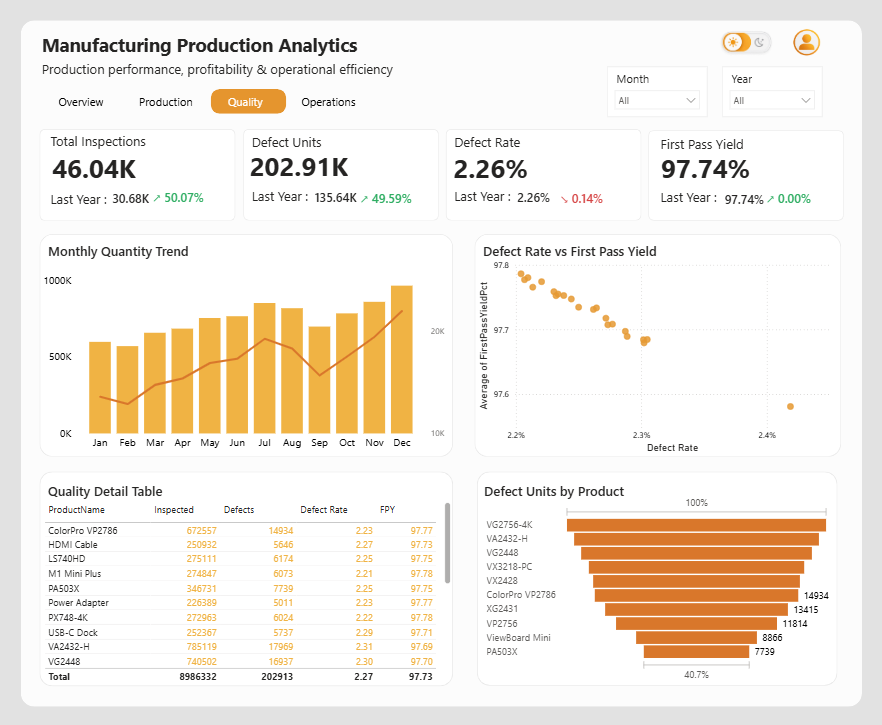

What the dashboard file says about the page in this screenshot:
{"tool":"powerbi","page":{"name":"Quality Analysis-Light","canvas":[1280,1050],"ordinal":2},"visuals":[{"type":"shape","box":[0,0,1279.9,1050],"z":0},{"type":"shape","box":[34.1,29.8,1211.8,989],"z":1000},{"type":"textbox","box":[58.8,42.8,499.3,64.2],"z":2000},{"type":"textbox","box":[58.8,82,533.2,48.1],"z":3000},{"type":"cardVisual","fields":{"Data":["3 Quality Measures.Total Inspections"]},"box":[49.9,199.1,212.2,85.1],"z":3000,"group":"g4"},{"type":"shape","box":[60.2,187.2,282.1,132.3],"z":4000,"group":"g3"},{"type":"group","id":"g1","title":"Group 11","box":[627.7,187.2,299.6,132],"z":4000},{"type":"cardVisual","fields":{"Data":["3 Quality Measures.Defect Units"]},"box":[335.2,197.8,251.4,83.8],"z":4000,"group":"g6"},{"type":"cardVisual","fields":{"Data":["3 Quality Measures.Defect Rate"]},"box":[627.7,202.3,200,79.8],"z":4000,"group":"g7"},{"type":"textbox","box":[950.7,190.8,238.8,41.2],"z":4500,"group":"g8"},{"type":"group","id":"g2","title":"Group 12","box":[926.4,189,293.4,130.2],"z":5000},{"type":"cardVisual","fields":{"Data":["3 Quality Measures.First Pass Yield"]},"box":[926.4,199,262.1,83.8],"z":5000,"group":"g8"},{"type":"textbox","box":[950.7,268.3,123.1,37.5],"z":5500,"group":"g8"},{"type":"shape","box":[308.5,130.2,108.8,35.7],"z":6000},{"type":"cardVisual","fields":{"Data":["3 Quality Measures.First Pass Yield YoY Display"]},"box":[1077.2,252.7,140.8,66.1],"z":6000,"group":"g8"},{"type":"cardVisual","fields":{"Data":["3 Quality Measures.First Pass Yield LY"]},"box":[1018,253.6,130.6,65.6],"z":6500,"group":"g8"},{"type":"shape","title":"Executive ","box":[62.4,123,115.9,48.1],"z":7000},{"type":"shape","box":[354.7,187.2,281.8,132],"z":7000,"group":"g5"},{"type":"shape","box":[645.3,187.2,281.8,132],"z":7000,"group":"g1"},{"type":"shape","title":"Executive ","box":[178.3,123,130.2,48.1],"z":8000},{"type":"shape","box":[938,189,281.8,130.2],"z":8000,"group":"g2"},{"type":"shape","title":"Executive ","box":[294.2,123,128.4,48.1],"z":9000},{"type":"group","id":"g3","title":"Group 10","box":[49.9,187.2,292.5,133.7],"z":10000},{"type":"cardVisual","fields":{"Data":["3 Quality Measures.Total Inspections LY"]},"box":[136.2,252.3,136,68.7],"z":10000,"group":"g4"},{"type":"cardVisual","fields":{"Data":["3 Quality Measures.Defect Units LY"]},"box":[428.3,252.4,143.2,65.7],"z":11000,"group":"g6"},{"type":"cardVisual","fields":{"Data":["3 Quality Measures.Defect Rate LY"]},"box":[718.9,252.4,143.2,65.7],"z":11000,"group":"g7"},{"type":"shape","box":[60.6,338.8,595.6,321],"z":11000},{"type":"group","id":"g4","title":"Group 1","box":[49.9,187.2,289.3,133.7],"z":12000,"group":"g3"},{"type":"group","id":"g5","title":"Group 11","box":[335.2,187.2,305.1,132],"z":12000},{"type":"cardVisual","fields":{"Data":["3 Quality Measures.Total Inspections YoY Display"]},"box":[193.3,251,145.9,69.8],"z":13000,"group":"g4"},{"type":"lineClusteredColumnComboChart","fields":{"Category":["Dim_Date.MonthShort"],"Y":["Sum(Fact_Quality.InspectedQuantity)"],"Y2":["Sum(Fact_Quality.DefectiveQuantity)"]},"box":[62,388.8,593.8,271.1],"z":13000},{"type":"group","id":"g6","title":"Group 3","box":[335.2,189,305.1,129.7],"z":14000,"group":"g5"},{"type":"group","id":"g7","title":"Group 3","box":[627.7,189,299.6,128.3],"z":14000,"group":"g1"},{"type":"cardVisual","fields":{"Data":["3 Quality Measures.Defect Units YoY Display"]},"box":[493,251.9,147.3,66.8],"z":14000,"group":"g6"},{"type":"cardVisual","fields":{"Data":["3 Quality Measures.Defect Rate YoY Display"]},"box":[780,252.4,147.3,66.8],"z":14000,"group":"g7"},{"type":"shape","box":[688.4,338.8,528.1,321],"z":14000},{"type":"scatterChart","fields":{"Category":["Dim_Product.ProductName"],"X":["3 Quality Measures.Defect Rate"],"Y":["Avg(Fact_Quality.FirstPassYieldPct)"]},"box":[688.4,369.1,529.6,290.7],"z":15000},{"type":"shape","box":[691.7,681.2,519.2,308.5],"z":16000},{"type":"shape","box":[60.6,681.2,595.6,309.4],"z":17000},{"type":"textbox","box":[71.9,187.2,228.3,43.5],"z":18000,"group":"g4"},{"type":"funnel","fields":{"Category":["Dim_Product.ProductName"],"Y":["Sum(Fact_Quality.DefectiveQuantity)"]},"box":[700,711.5,504,276],"z":18000},{"type":"tableEx","fields":{"Values":["Dim_Product.ProductName","Sum(Fact_Quality.InspectedQuantity)","Sum(Fact_Quality.DefectiveQuantity)","Avg(Fact_Quality.DefectRatePct)","Avg(Fact_Quality.FirstPassYieldPct)"]},"box":[62.4,720.5,595.6,269.3],"z":19000},{"type":"textbox","box":[72,269.2,117.7,39.6],"z":20000,"group":"g4"},{"type":"textbox","box":[68.8,346,308.6,45.1],"z":20000},{"type":"textbox","box":[695.5,346,349.5,44.6],"z":21000},{"type":"textbox","box":[691.7,691.2,317.2,41.7],"z":22000},{"type":"textbox","box":[68.2,691.3,359.3,41.8],"z":23000},{"type":"slicer","fields":{"Values":["Dim_Date.Year"]},"box":[1045,98.1,144.4,73.1],"z":24000},{"type":"slicer","fields":{"Values":["Dim_Date.MonthShort"]},"box":[879.2,98.1,144.4,73.1],"z":25000},{"type":"shape","title":"Executive ","box":[424,123,108.8,48.1],"z":26000},{"type":"image","box":[990,18,178,90],"z":27000},{"type":"textbox","box":[362.6,189,236.5,41.7],"z":27000,"group":"g6"},{"type":"textbox","box":[653.3,189,236.5,41.7],"z":27000,"group":"g7"},{"type":"group","id":"g8","title":"Group 2","box":[926.4,190.8,291.6,128.4],"z":27500,"group":"g2"},{"type":"image","box":[1100,20,133,86],"z":28000},{"type":"textbox","box":[361.9,267.3,122,37.9],"z":28000,"group":"g6"},{"type":"textbox","box":[652.6,267.3,122,37.9],"z":28000,"group":"g7"},{"type":"actionButton","box":[1077.1,42.8,41,39.2],"z":29000}]}

Visuals, with their boxes in screenshot pixels (x1, y1, x2, y2), scaled from the page's 1280x1050 canvas onto the 882x725 screenshot:
shape: <box>0,0,881,724</box>
shape: <box>23,21,859,703</box>
textbox: <box>41,30,385,74</box>
textbox: <box>41,57,408,90</box>
cardVisual - 3 Quality Measures.Total Inspections: <box>34,137,181,196</box>
shape: <box>41,129,236,221</box>
"Group 11" group: <box>433,129,639,220</box>
cardVisual - 3 Quality Measures.Defect Units: <box>231,137,404,194</box>
cardVisual - 3 Quality Measures.Defect Rate: <box>433,140,570,195</box>
textbox: <box>655,132,820,160</box>
"Group 12" group: <box>638,130,841,220</box>
cardVisual - 3 Quality Measures.First Pass Yield: <box>638,137,819,195</box>
textbox: <box>655,185,740,211</box>
shape: <box>213,90,288,115</box>
cardVisual - 3 Quality Measures.First Pass Yield YoY Display: <box>742,174,839,220</box>
cardVisual - 3 Quality Measures.First Pass Yield LY: <box>701,175,791,220</box>
"Executive " shape: <box>43,85,123,118</box>
shape: <box>244,129,439,220</box>
shape: <box>445,129,639,220</box>
"Executive " shape: <box>123,85,213,118</box>
shape: <box>646,130,841,220</box>
"Executive " shape: <box>203,85,291,118</box>
"Group 10" group: <box>34,129,236,222</box>
cardVisual - 3 Quality Measures.Total Inspections LY: <box>94,174,188,222</box>
cardVisual - 3 Quality Measures.Defect Units LY: <box>295,174,394,220</box>
cardVisual - 3 Quality Measures.Defect Rate LY: <box>495,174,594,220</box>
shape: <box>42,234,452,456</box>
"Group 1" group: <box>34,129,234,222</box>
"Group 11" group: <box>231,129,441,220</box>
cardVisual - 3 Quality Measures.Total Inspections YoY Display: <box>133,173,234,222</box>
lineClusteredColumnComboChart - Dim_Date.MonthShort x Sum(Fact_Quality.InspectedQuantity): <box>43,268,452,456</box>
"Group 3" group: <box>231,130,441,220</box>
"Group 3" group: <box>433,130,639,219</box>
cardVisual - 3 Quality Measures.Defect Units YoY Display: <box>340,174,441,220</box>
cardVisual - 3 Quality Measures.Defect Rate YoY Display: <box>537,174,639,220</box>
shape: <box>474,234,838,456</box>
scatterChart - Dim_Product.ProductName x 3 Quality Measures.Defect Rate: <box>474,255,839,456</box>
shape: <box>477,470,834,683</box>
shape: <box>42,470,452,684</box>
textbox: <box>50,129,207,159</box>
funnel - Dim_Product.ProductName x Sum(Fact_Quality.DefectiveQuantity): <box>482,491,830,682</box>
tableEx - Dim_Product.ProductName x Sum(Fact_Quality.InspectedQuantity): <box>43,497,453,683</box>
textbox: <box>50,186,131,213</box>
textbox: <box>47,239,260,270</box>
textbox: <box>479,239,720,270</box>
textbox: <box>477,477,695,506</box>
textbox: <box>47,477,295,506</box>
slicer - Dim_Date.Year: <box>720,68,820,118</box>
slicer - Dim_Date.MonthShort: <box>606,68,705,118</box>
"Executive " shape: <box>292,85,367,118</box>
image: <box>682,12,805,75</box>
textbox: <box>250,130,413,159</box>
textbox: <box>450,130,613,159</box>
"Group 2" group: <box>638,132,839,220</box>
image: <box>758,14,850,73</box>
textbox: <box>249,185,333,211</box>
textbox: <box>450,185,534,211</box>
actionButton: <box>742,30,770,57</box>
